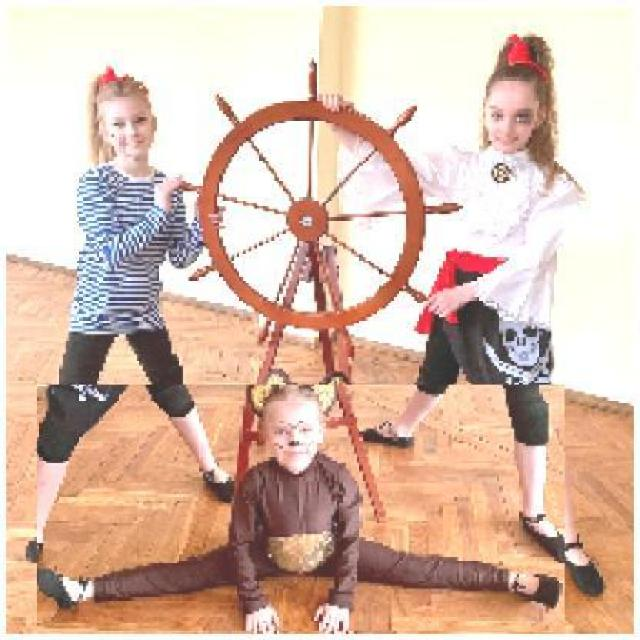child: (36, 385, 564, 632)
